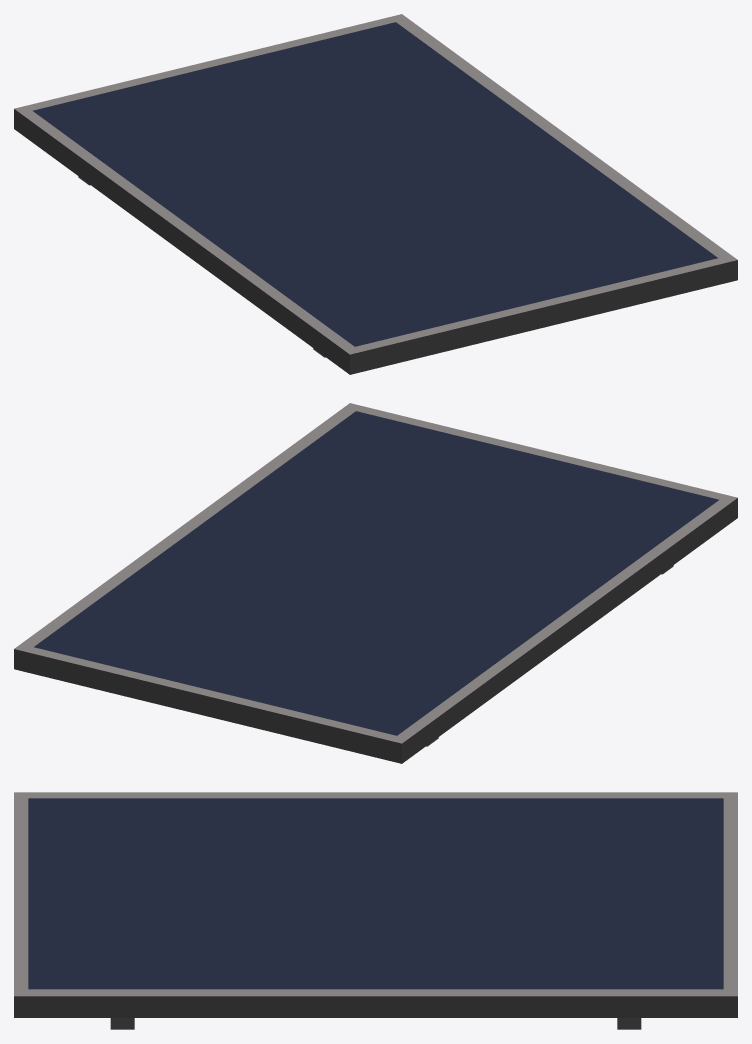
The model's file is solar-panel-house.glb.
The picture shows the model from 3 angles, top to bottom: view 1: azimuth 30°, elevation 25°; view 2: azimuth 150°, elevation 25°; view 3: azimuth 270°, elevation 25°; orthographic projection. The views are drawn at different scales.
Visible parts, largest first — view 1: solar-panel-house; view 2: solar-panel-house; view 3: solar-panel-house.
Boxes of the visible parts, <box> form: solar-panel-house: <box>14,14,737,374</box>; solar-panel-house: <box>14,403,737,763</box>; solar-panel-house: <box>14,792,737,1029</box>.
Bounding box in the file's own units: 1 × 0.1 × 1.5.
1 material, 1 textured.
